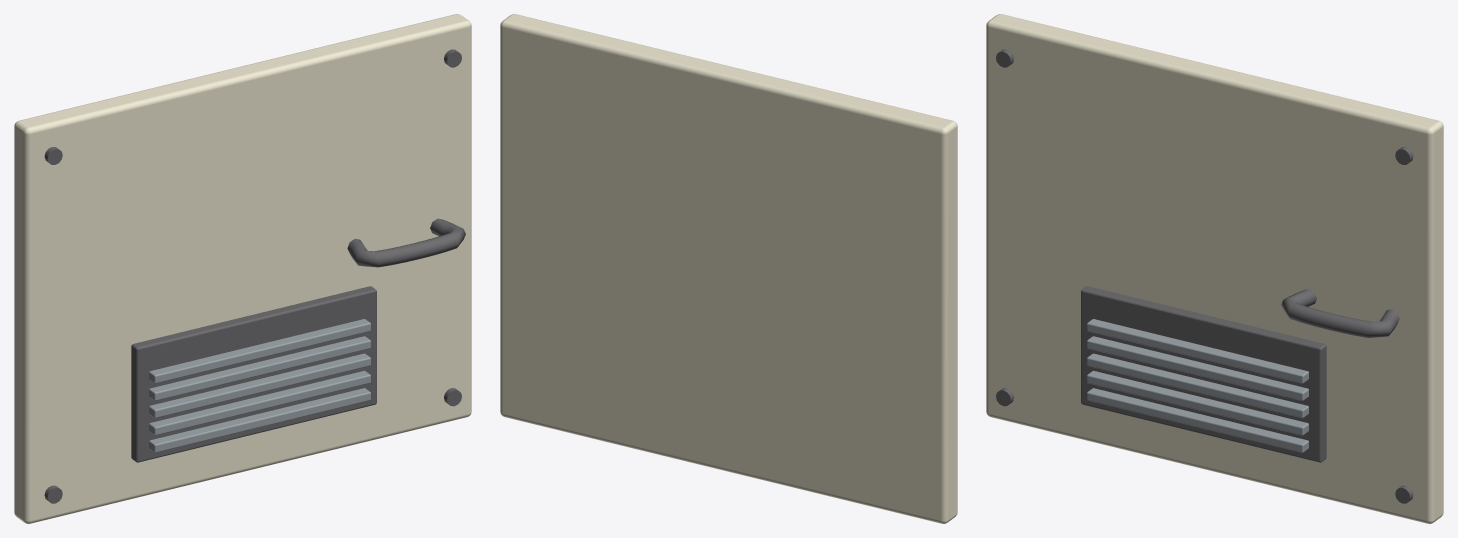
The model's file is prison-complex-builder-service-hatch-663be321__25622.glb.
The picture shows the model from 3 angles, left to right: view 1: azimuth 30°, elevation 25°; view 2: azimuth 150°, elevation 25°; view 3: azimuth 330°, elevation 25°; orthographic projection.
Parts seen in each view (by area): view 1: service-hatch (×3); view 2: service-hatch; view 3: service-hatch (×3).
Boxes of the visible parts, x1,y1,x2,y2 form: service-hatch (×3): (14, 14, 471, 523); service-hatch: (500, 14, 957, 523); service-hatch (×3): (986, 14, 1443, 523).
Size of the model in its own units: 0.65 by 0.55 by 0.1011.
